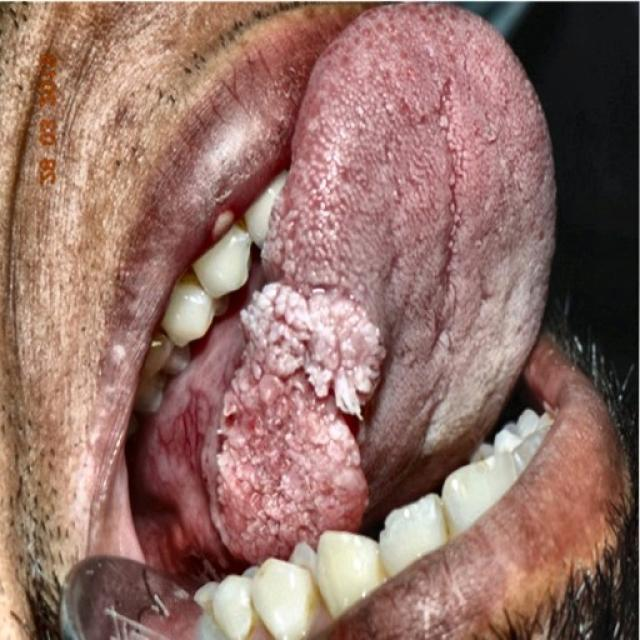cancer-detection: (192, 280, 427, 565)
processing_area: (132, 1, 558, 589)
